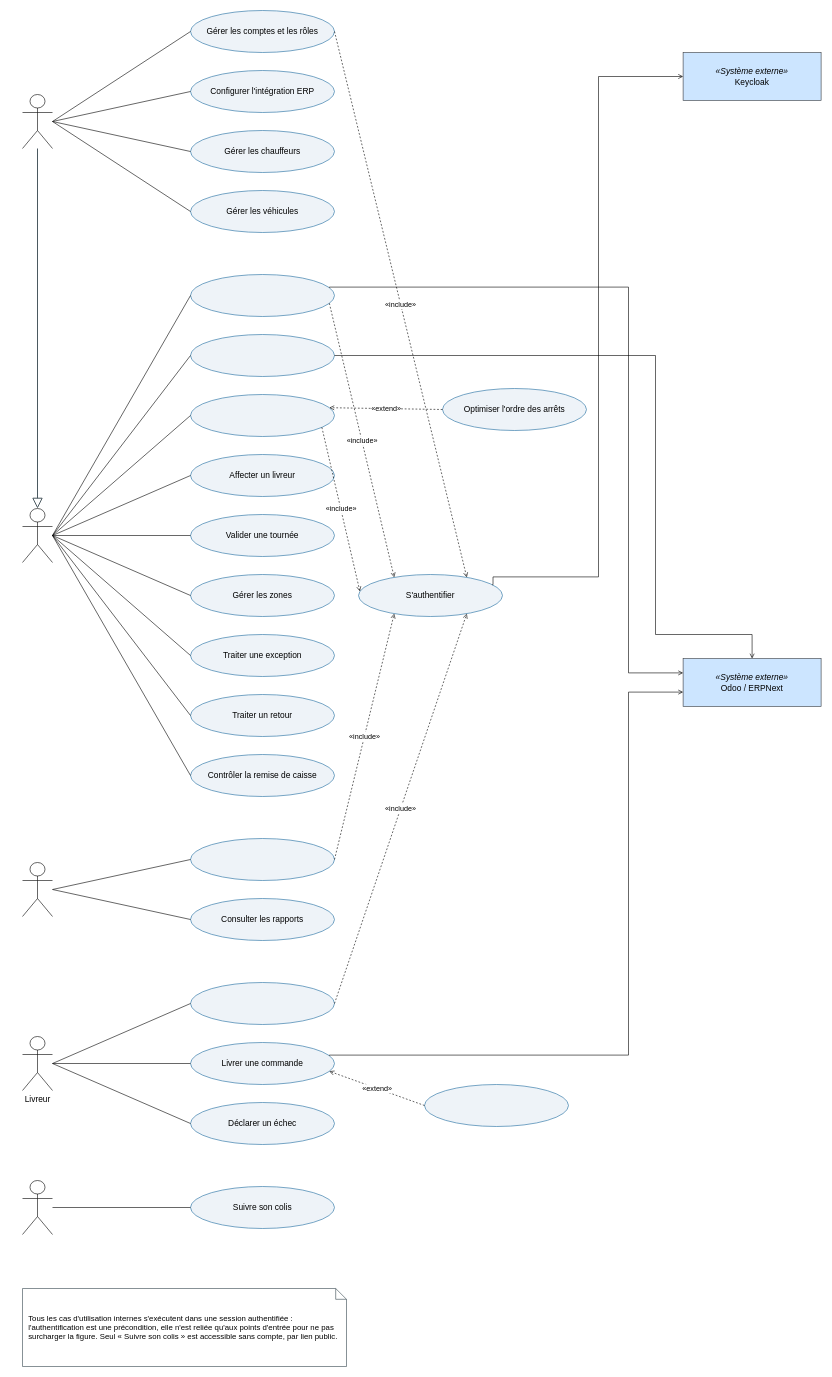
Some shapes in this 832 by 1377 pixel diagram are drawn without their labels. The box of each missing label's shape, as (x1, y1, x2, y2) in pixels:
Administrateur: (22, 94, 52, 148)
Destinataire: (22, 1180, 52, 1234)
Dispatcheur: (22, 508, 52, 562)
Encaisser un paiement: (424, 1084, 568, 1126)
Exécuter sa tournée: (190, 982, 334, 1024)
Importer les commandes: (190, 274, 334, 316)
Planifier une tournée: (190, 394, 334, 436)
Responsable: (22, 862, 52, 916)
Suivre les livraisons: (190, 838, 334, 880)
Synchroniser les dépôts: (190, 334, 334, 376)
